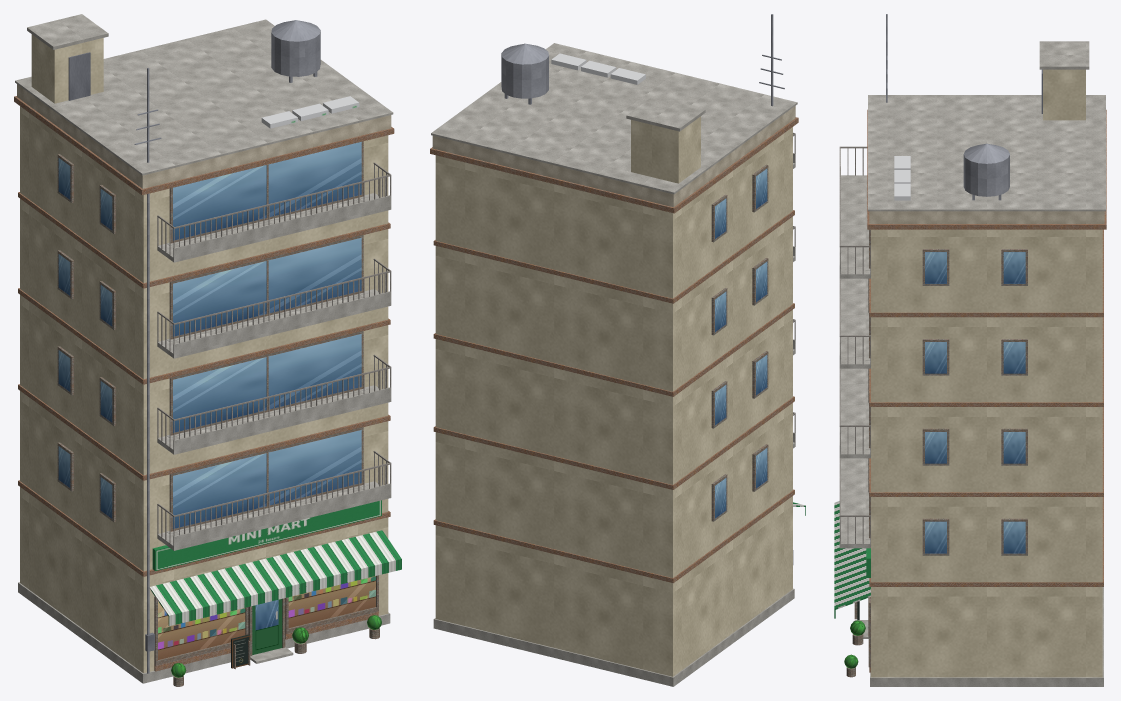
The model's file is b6_apartment_mart.glb.
3 renders of one model, left to right at view 1: azimuth 30°, elevation 25°; view 2: azimuth 150°, elevation 25°; view 3: azimuth 270°, elevation 25°, orthographic. The views are drawn at different scales.
Parts seen in each view (by area): view 1: wall, concrete, glass, solid_#8f8a7e, awning, solid_#25282c, solid_#f2efe6, glass_shop, parapet, metal, sign, solid_#2b6f3e (+4 smaller); view 2: wall, concrete, solid_#8f8a7e, parapet, glass, metal, solid_#f2efe6, ac; view 3: wall, concrete, solid_#8f8a7e, glass, solid_#f2efe6, parapet, metal, awning, solid_#25282c, ac.
Part boxes in pixels (box(x1,y1,x2,y2)): wall: box(20, 34, 388, 673); concrete: box(15, 14, 393, 683); glass: box(58, 142, 361, 528); solid_#8f8a7e: box(14, 96, 394, 671); awning: box(149, 530, 401, 626); solid_#25282c: box(157, 162, 391, 545); solid_#f2efe6: box(57, 141, 363, 531); glass_shop: box(158, 576, 375, 659); parapet: box(17, 84, 391, 188); metal: box(134, 20, 320, 673); sign: box(152, 500, 381, 570); solid_#2b6f3e: box(154, 575, 378, 665); wall: box(435, 116, 792, 676); concrete: box(431, 43, 797, 686); solid_#8f8a7e: box(430, 117, 798, 583); parapet: box(432, 106, 795, 207); glass: box(715, 168, 767, 518); metal: box(501, 14, 784, 106); solid_#f2efe6: box(711, 164, 768, 521); ac: box(551, 53, 645, 84); wall: box(871, 69, 1102, 677); concrete: box(839, 41, 1105, 686); solid_#8f8a7e: box(867, 109, 1106, 672); glass: box(925, 252, 1025, 553); solid_#f2efe6: box(868, 229, 1027, 555); parapet: box(869, 211, 1104, 223); metal: box(886, 14, 1009, 200); awning: box(834, 501, 870, 618); solid_#25282c: box(839, 146, 870, 543); ac: box(894, 156, 910, 200).
Bounding box in the file's own units: 8.24 × 18.9 × 8.23.
Materials: 20 (20 with a texture image).
